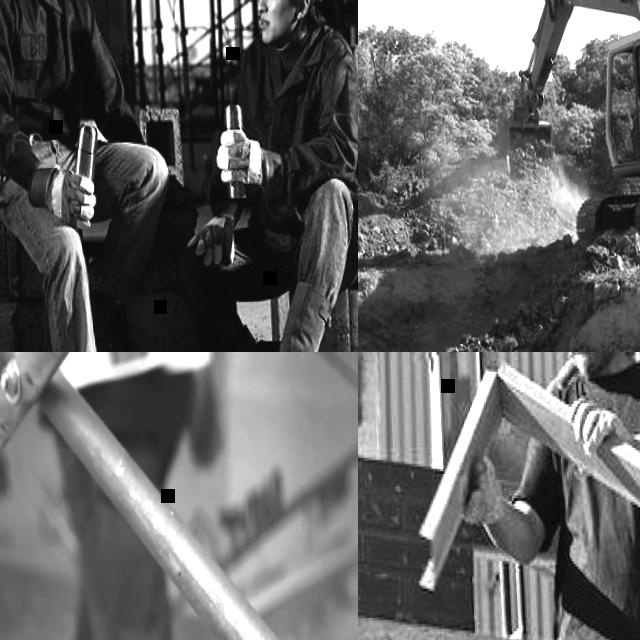NO-Mask: (258, 7, 293, 39), (565, 352, 615, 367)
NO-Safety Vest: (544, 366, 640, 640), (242, 29, 343, 216), (0, 0, 103, 143)
Person: (0, 352, 249, 640), (168, 0, 358, 352), (0, 0, 187, 352), (443, 352, 640, 640), (621, 73, 640, 161)
machinery: (490, 0, 640, 260)
